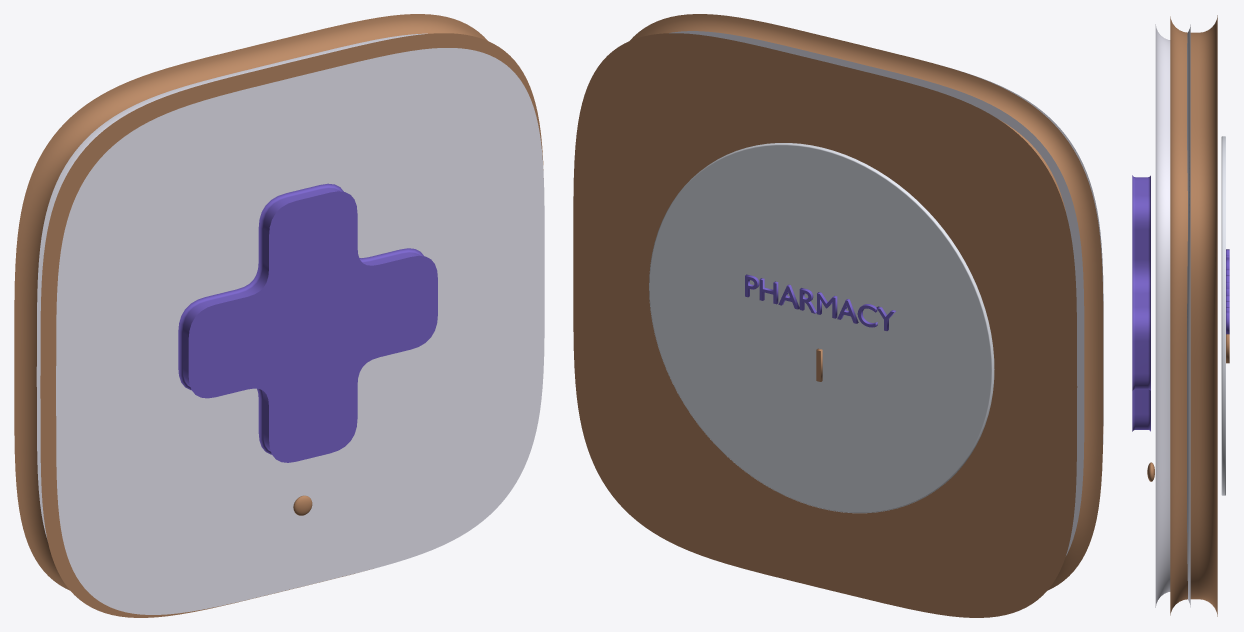
File: ios-B-soft-stores-bronze.glb
3 renders of one model, left to right at view 1: azimuth 30°, elevation 25°; view 2: azimuth 150°, elevation 25°; view 3: azimuth 270°, elevation 25°, orthographic. The views are drawn at different scales.
Visible parts, largest first — view 1: Porcelain rounded-square face.001, Rounded pharmacy symbol.001, Continuous-radius satin back.001; view 2: Continuous-radius satin back.001, Reverse center.001, Porcelain rounded-square face.001, Rounded pharmacy symbol.001; view 3: Continuous-radius satin back.001, Porcelain rounded-square face.001, Rounded pharmacy symbol.001, Reverse center.001.
Boxes of the visible parts, box(x1,y1,x2,y2) form: Porcelain rounded-square face.001: box(36, 33, 544, 614); Rounded pharmacy symbol.001: box(178, 183, 437, 462); Continuous-radius satin back.001: box(14, 14, 543, 617); Continuous-radius satin back.001: box(573, 14, 1103, 617); Reverse center.001: box(649, 143, 994, 513); Porcelain rounded-square face.001: box(669, 31, 1103, 555); Rounded pharmacy symbol.001: box(745, 274, 895, 330); Continuous-radius satin back.001: box(1147, 15, 1229, 616); Porcelain rounded-square face.001: box(1155, 24, 1190, 607); Rounded pharmacy symbol.001: box(1132, 175, 1229, 431); Reverse center.001: box(1221, 136, 1225, 495).
Size of the model in its own units: 2.11 by 2.11 by 0.3895.
